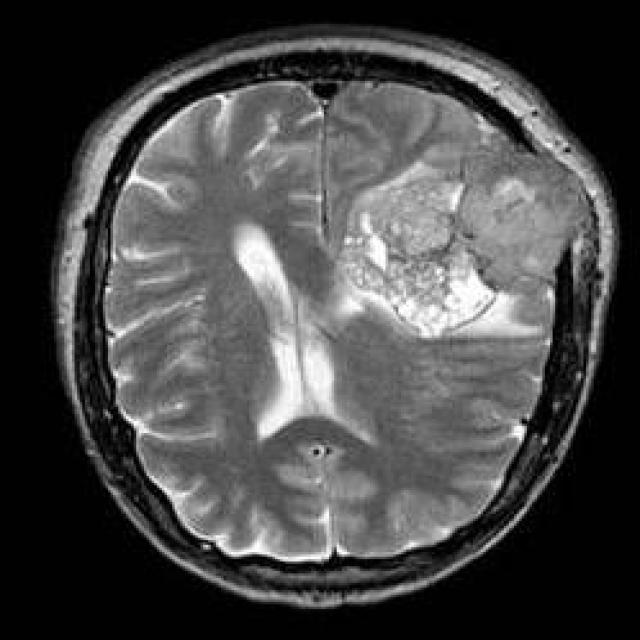Tumor-Cell: (356, 149, 582, 336)
